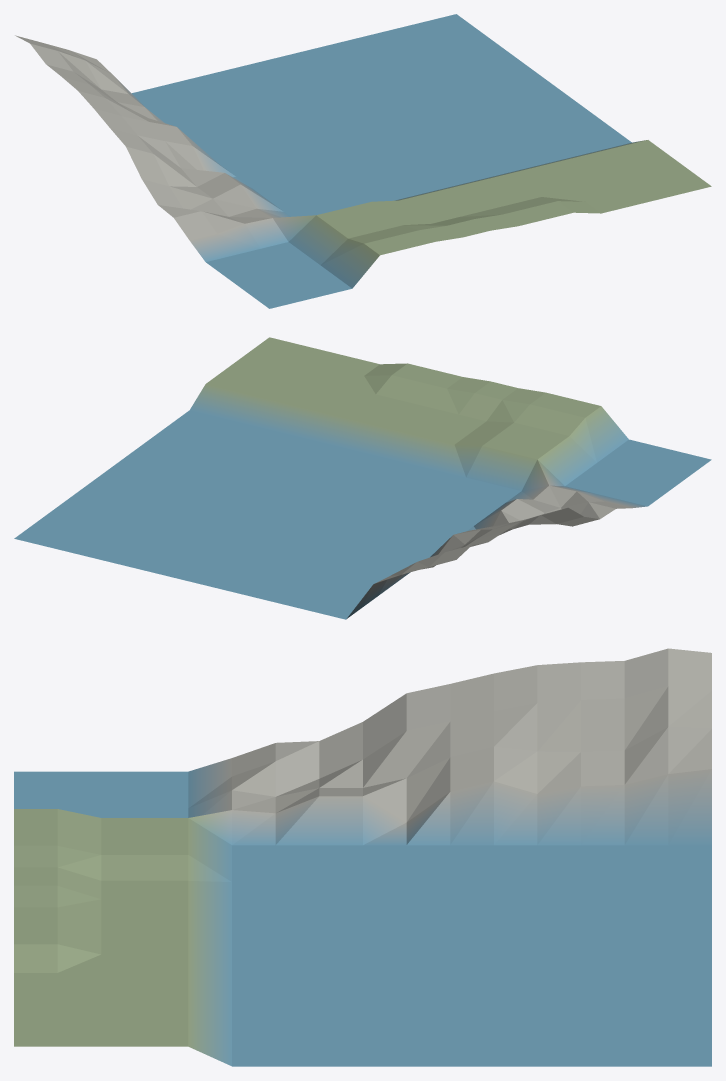
3 views of the same model, one above another, from view 1: azimuth 30°, elevation 25°; view 2: azimuth 150°, elevation 25°; view 3: azimuth 270°, elevation 25° (orthographic). The views are drawn at different scales.
Size of the model in its own units: 32 by 6.22 by 32.
